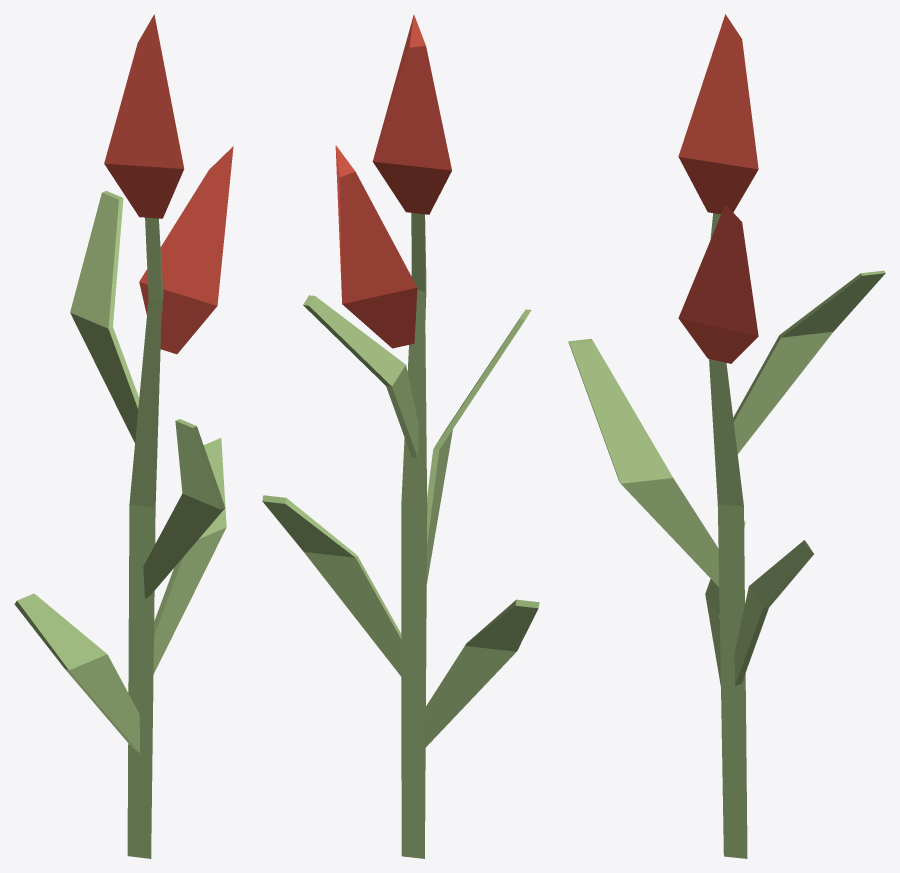
Rendered from plants_b.gltf.
The picture shows the model from 3 angles, left to right: view 1: azimuth 30°, elevation 25°; view 2: azimuth 150°, elevation 25°; view 3: azimuth 270°, elevation 25°; orthographic projection.
Parts seen in each view (by area): view 1: plants_b001; view 2: plants_b001; view 3: plants_b001.
Part boxes in pixels (<box>): plants_b001: <box>14,14,233,858</box>; plants_b001: <box>262,14,539,858</box>; plants_b001: <box>568,14,885,858</box>.
Bounding box in the file's own units: 0.4418 × 1.47 × 0.5005.
Materials: 1 (1 with a texture image).
